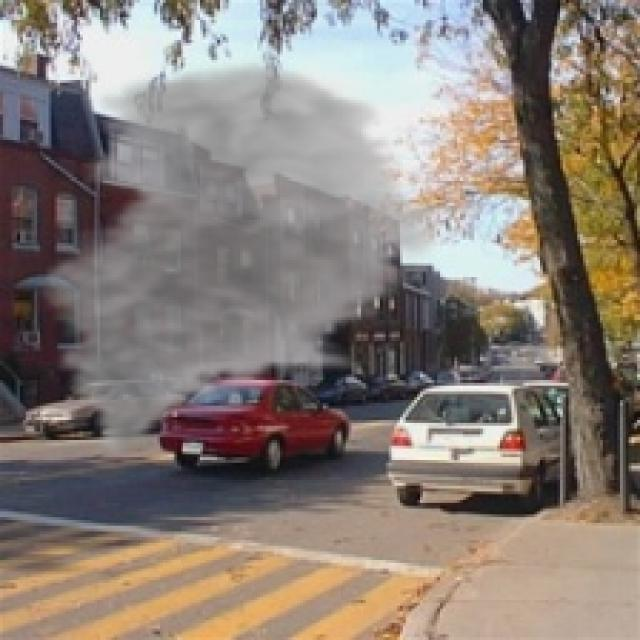smoke: (29, 57, 452, 460)
